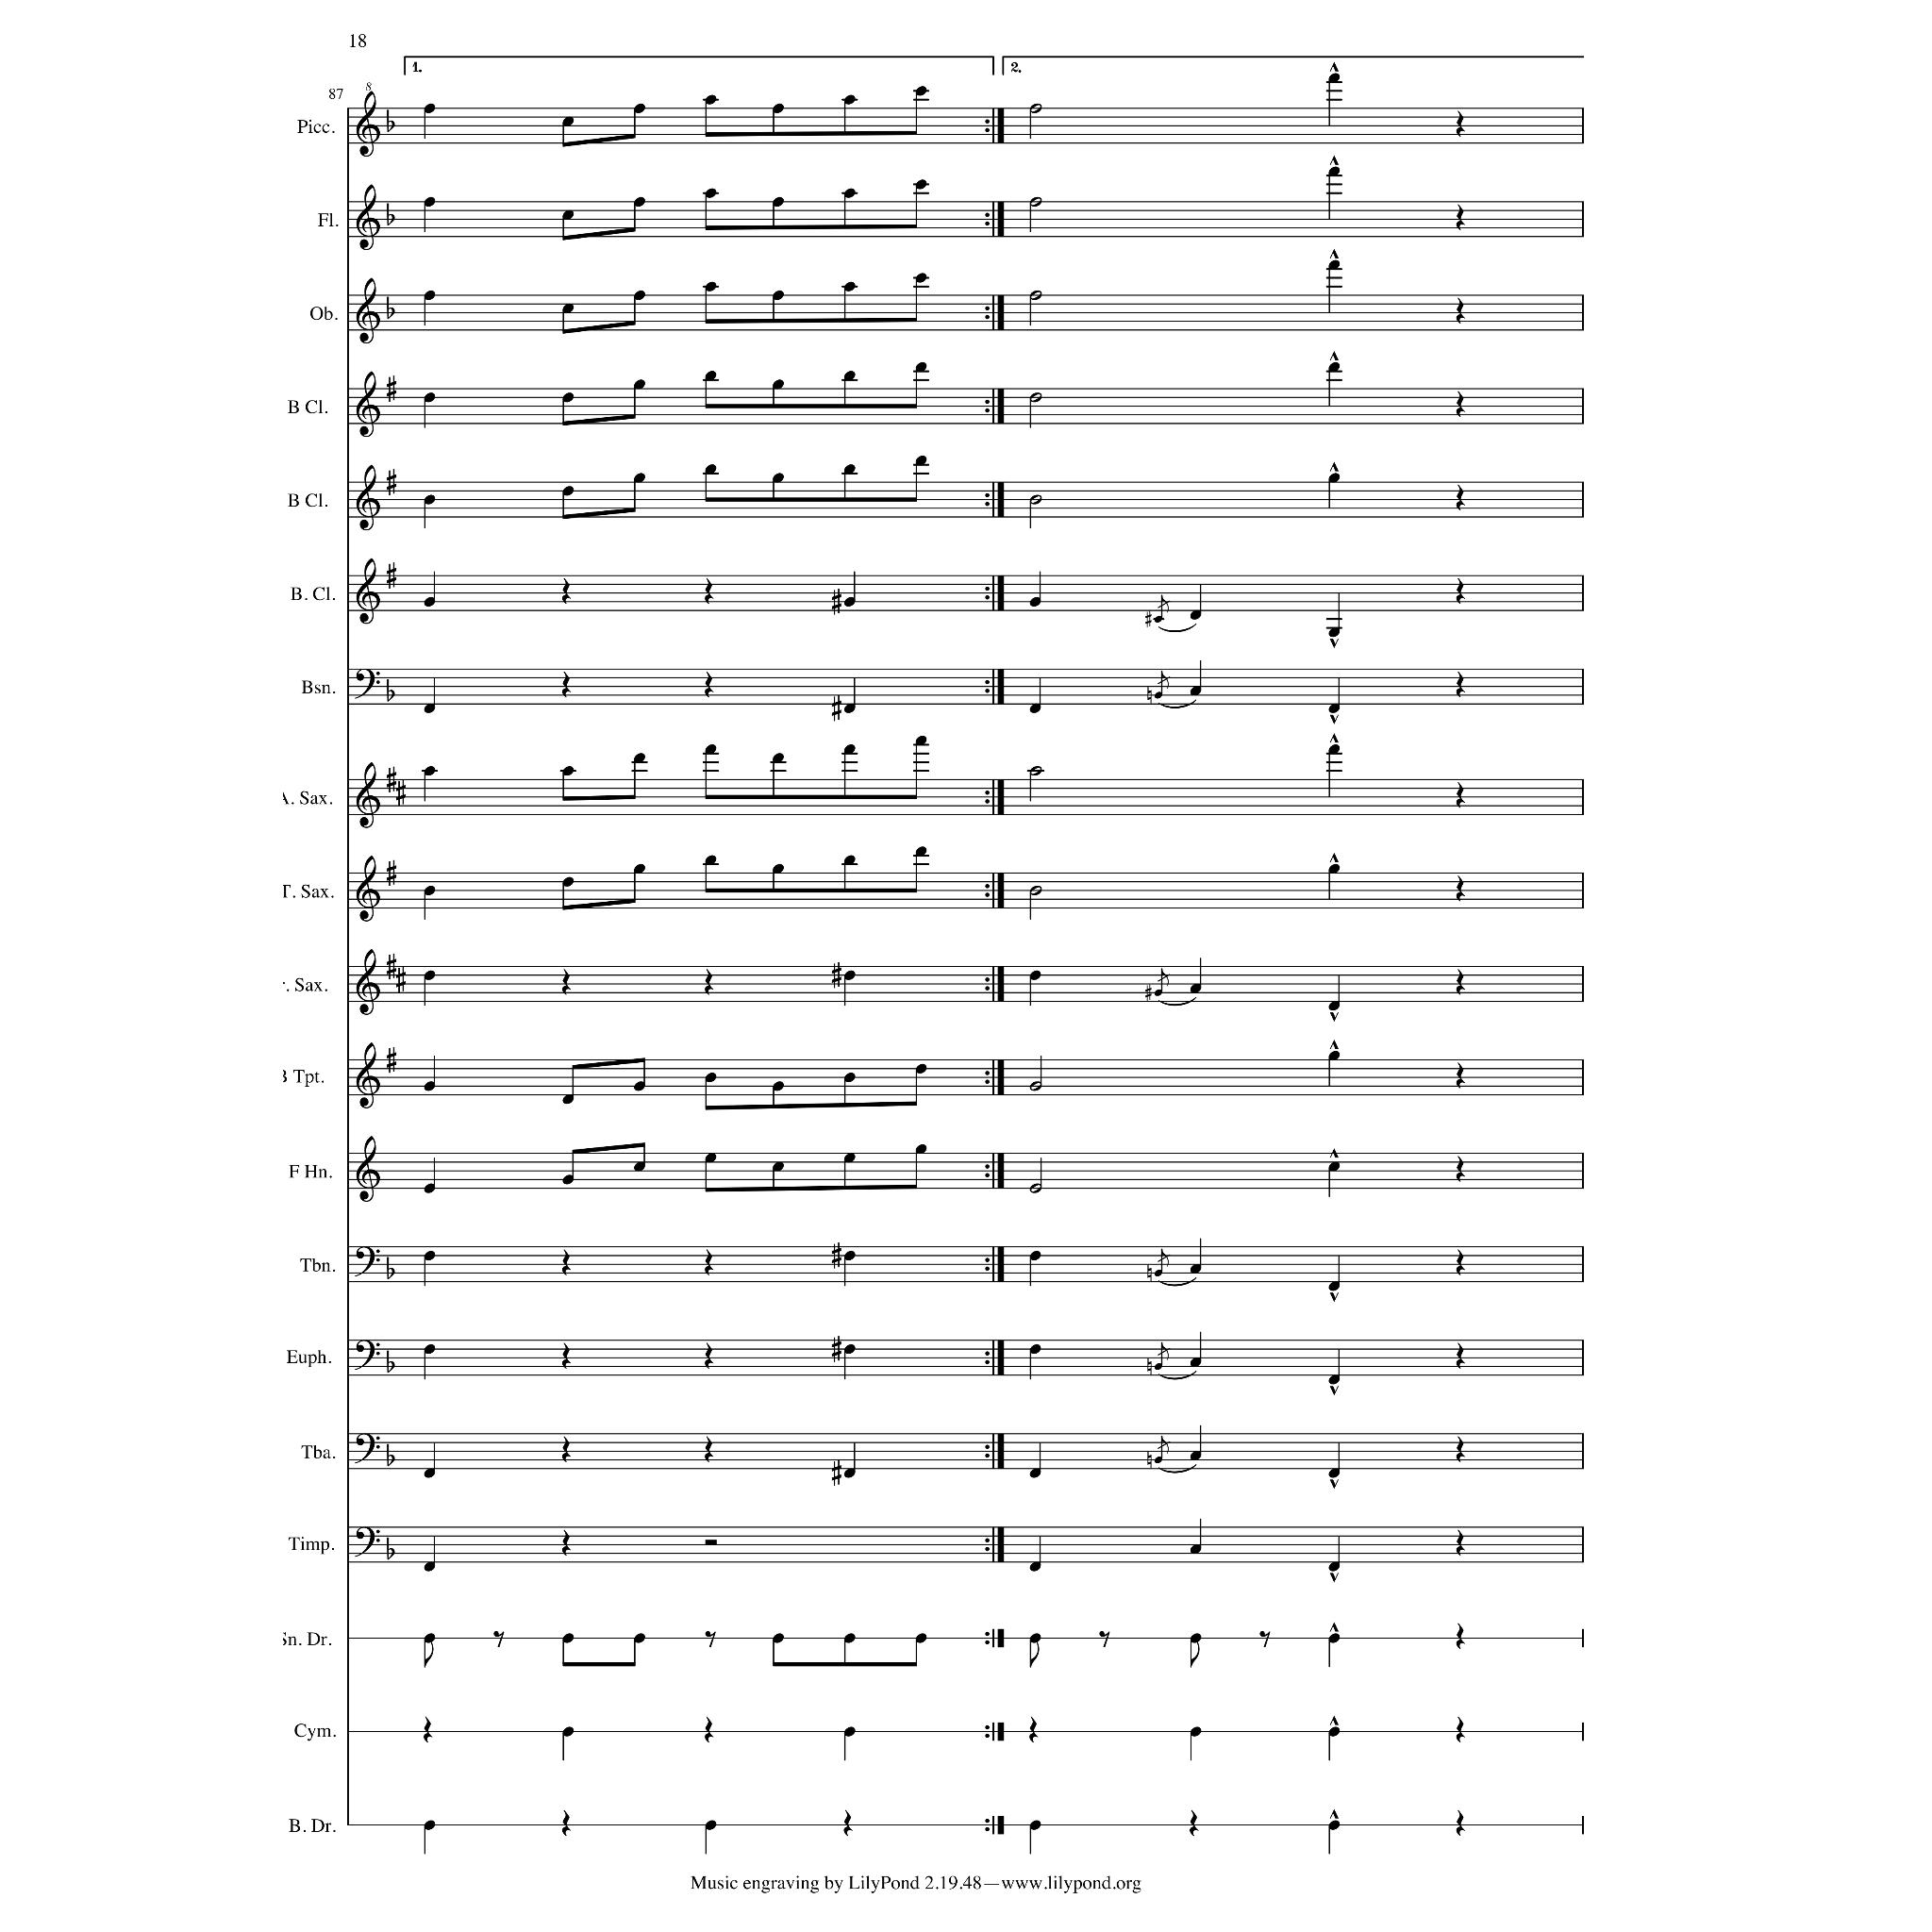fClef: (355, 669, 379, 699), (355, 1340, 379, 1370), (355, 1246, 379, 1276), (355, 1434, 379, 1464), (355, 1527, 379, 1557)
flag8thDown: (1029, 1641, 1039, 1668), (1190, 1641, 1199, 1668), (424, 1641, 433, 1668)
flag8thUp: (1157, 1430, 1170, 1455), (1157, 1243, 1170, 1268), (1157, 666, 1170, 689), (1157, 591, 1170, 613), (1157, 1338, 1170, 1360), (1157, 964, 1170, 987)
gClef: (356, 370, 380, 438), (356, 183, 380, 251), (356, 855, 380, 923), (356, 1041, 380, 1109), (356, 277, 380, 343), (356, 91, 380, 157), (356, 762, 380, 828), (356, 558, 380, 625), (356, 464, 380, 530), (356, 1136, 380, 1202), (356, 949, 380, 1015)
noteheadBlack: (1190, 609, 1201, 621), (1190, 1726, 1201, 1738), (1190, 1543, 1201, 1555), (1190, 1357, 1201, 1368), (1190, 983, 1201, 994), (1190, 685, 1201, 696), (1029, 1343, 1041, 1355), (1029, 970, 1041, 981), (1029, 596, 1041, 608), (915, 1143, 926, 1155), (915, 455, 926, 466), (915, 179, 926, 191), (1029, 1468, 1041, 1479), (1327, 1726, 1339, 1738), (1327, 1468, 1339, 1479), (1327, 1000, 1339, 1011), (1327, 743, 1339, 755), (1327, 626, 1339, 638), (1327, 166, 1339, 177), (562, 392, 574, 404), (562, 209, 574, 221), (562, 1726, 574, 1738), (633, 753, 644, 764), (633, 379, 644, 391), (424, 1468, 435, 1479), (424, 1343, 435, 1355), (424, 1183, 435, 1194), (424, 970, 435, 981), (424, 885, 435, 896), (424, 596, 435, 608), (424, 494, 435, 506), (424, 392, 435, 404), (424, 196, 435, 208), (633, 196, 644, 208), (843, 94, 855, 106), (843, 281, 855, 292), (843, 1726, 855, 1738), (843, 1468, 855, 1479), (843, 1343, 855, 1355), (843, 1072, 855, 1083), (843, 970, 855, 981), (843, 855, 855, 866), (843, 743, 855, 755), (843, 596, 855, 608), (843, 464, 855, 475), (772, 753, 783, 764), (772, 379, 783, 391), (772, 196, 783, 208), (705, 743, 716, 755), (705, 464, 716, 475), (705, 281, 716, 292), (705, 94, 716, 106), (705, 855, 716, 866), (705, 1072, 716, 1083), (1190, 1634, 1201, 1643), (1190, 1451, 1201, 1460), (1190, 1264, 1201, 1274), (1029, 1251, 1041, 1260), (1029, 704, 1041, 713), (915, 736, 926, 745), (915, 1634, 926, 1643), (915, 1064, 926, 1074), (915, 847, 926, 857), (915, 362, 926, 372), (915, 274, 926, 283), (915, 87, 926, 96), (1029, 1821, 1041, 1830), (1029, 1634, 1041, 1643), (1029, 1562, 1041, 1572), (1327, 1375, 1339, 1385), (1327, 1821, 1339, 1830), (1327, 1634, 1339, 1643), (1327, 1562, 1339, 1572), (1327, 1281, 1339, 1291), (1327, 1162, 1339, 1172), (1327, 1051, 1339, 1060), (1327, 864, 1339, 874), (1327, 362, 1339, 372), (1327, 704, 1339, 713), (1327, 474, 1339, 483), (1327, 260, 1339, 270), (1327, 74, 1339, 83), (562, 487, 574, 496), (562, 304, 574, 313), (562, 117, 574, 126), (562, 1634, 574, 1643), (562, 1175, 574, 1185), (562, 1094, 574, 1104), (562, 877, 574, 887), (562, 766, 574, 775), (633, 474, 644, 483), (633, 291, 644, 300), (633, 104, 644, 113), (424, 1251, 435, 1260), (424, 1821, 435, 1830), (424, 1634, 435, 1643), (424, 1562, 435, 1572), (424, 1081, 435, 1091), (424, 766, 435, 775), (424, 704, 435, 713), (424, 291, 435, 300), (424, 104, 435, 113), (843, 189, 855, 198), (843, 1251, 855, 1260), (843, 1634, 855, 1643), (843, 1153, 855, 1162), (843, 704, 855, 713), (843, 372, 855, 381), (772, 1634, 783, 1643), (772, 1162, 783, 1172), (772, 1081, 783, 1091), (772, 864, 783, 874), (772, 474, 783, 483), (633, 864, 644, 874), (772, 104, 783, 113), (772, 291, 783, 300), (705, 372, 716, 381), (705, 189, 716, 198), (705, 1821, 716, 1830), (705, 1153, 716, 1162), (633, 1634, 644, 1643), (633, 1162, 644, 1172), (633, 1081, 644, 1091), (1153, 1457, 1162, 1464), (1153, 1363, 1162, 1371), (1153, 1270, 1162, 1277), (1153, 989, 1162, 996), (1153, 691, 1162, 699), (1153, 616, 1162, 624)
noteheadHalf: (1028, 494, 1041, 506), (1028, 1183, 1041, 1194), (1028, 1081, 1041, 1092), (1028, 885, 1041, 896), (1028, 392, 1041, 404), (1028, 196, 1041, 208), (1028, 766, 1041, 775), (1028, 291, 1041, 300), (1028, 104, 1041, 113)
rest8th: (1098, 1631, 1109, 1648), (1258, 1631, 1270, 1648), (492, 1631, 504, 1648), (704, 1631, 715, 1648)
restHalf: (705, 1540, 716, 1545)
restQuarter: (1456, 296, 1465, 325), (1456, 109, 1465, 138), (1456, 483, 1465, 511), (1456, 1155, 1465, 1183), (1456, 968, 1465, 996), (1456, 781, 1465, 809), (1456, 577, 1465, 606), (561, 577, 571, 606), (561, 968, 571, 996), (704, 577, 713, 606), (704, 968, 713, 996), (1189, 1809, 1198, 1836), (1028, 1716, 1038, 1742), (1456, 391, 1465, 417), (1456, 204, 1465, 230), (1456, 1436, 1465, 1462), (1456, 1809, 1465, 1836), (1456, 1716, 1465, 1742), (1456, 1623, 1465, 1649), (1456, 1529, 1465, 1556), (1456, 1342, 1465, 1369), (1456, 1249, 1465, 1275), (1456, 1062, 1465, 1089), (1456, 875, 1465, 902), (1456, 672, 1465, 698), (561, 672, 571, 698), (561, 1809, 571, 1836), (561, 1529, 571, 1556), (561, 1436, 571, 1462), (561, 1342, 571, 1369), (561, 1249, 571, 1275), (423, 1716, 432, 1742), (842, 1809, 852, 1836), (704, 672, 713, 698), (704, 1716, 713, 1742), (704, 1436, 713, 1462), (704, 1342, 713, 1369), (704, 1249, 713, 1275)
